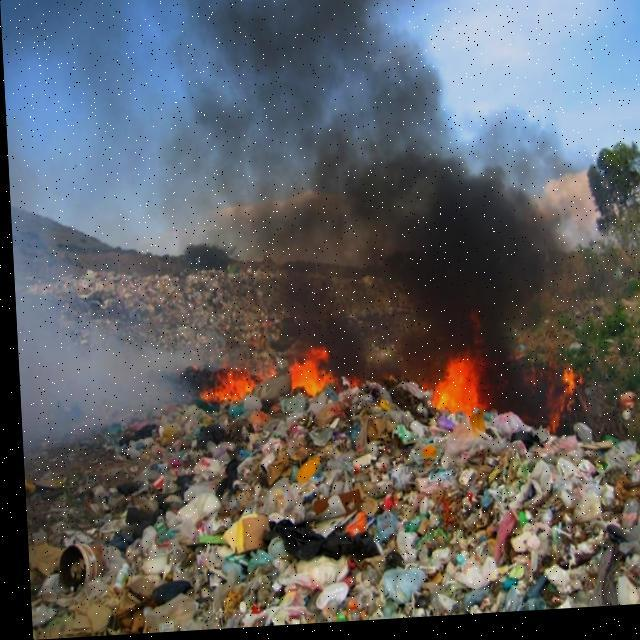Fire: (154, 237, 599, 509)
